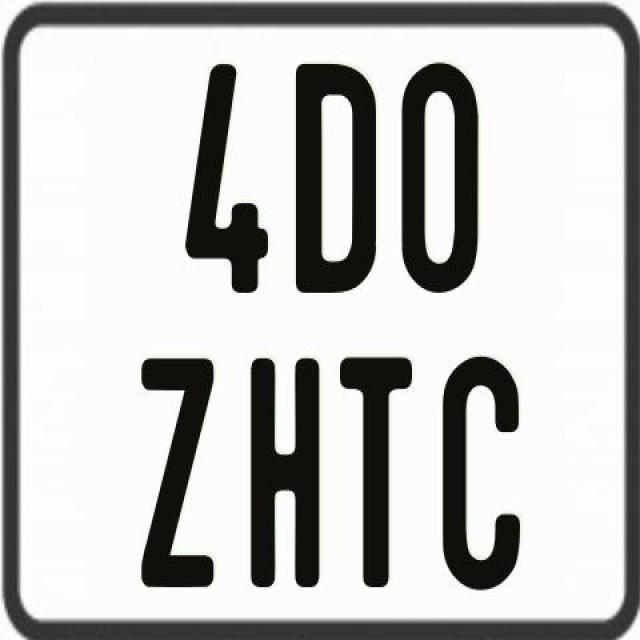0: (402, 58, 482, 292)
4: (181, 64, 271, 298)
C: (442, 353, 522, 592)
D: (292, 63, 374, 294)
H: (248, 358, 318, 596)
T: (336, 356, 410, 590)
Z: (140, 353, 220, 582)
